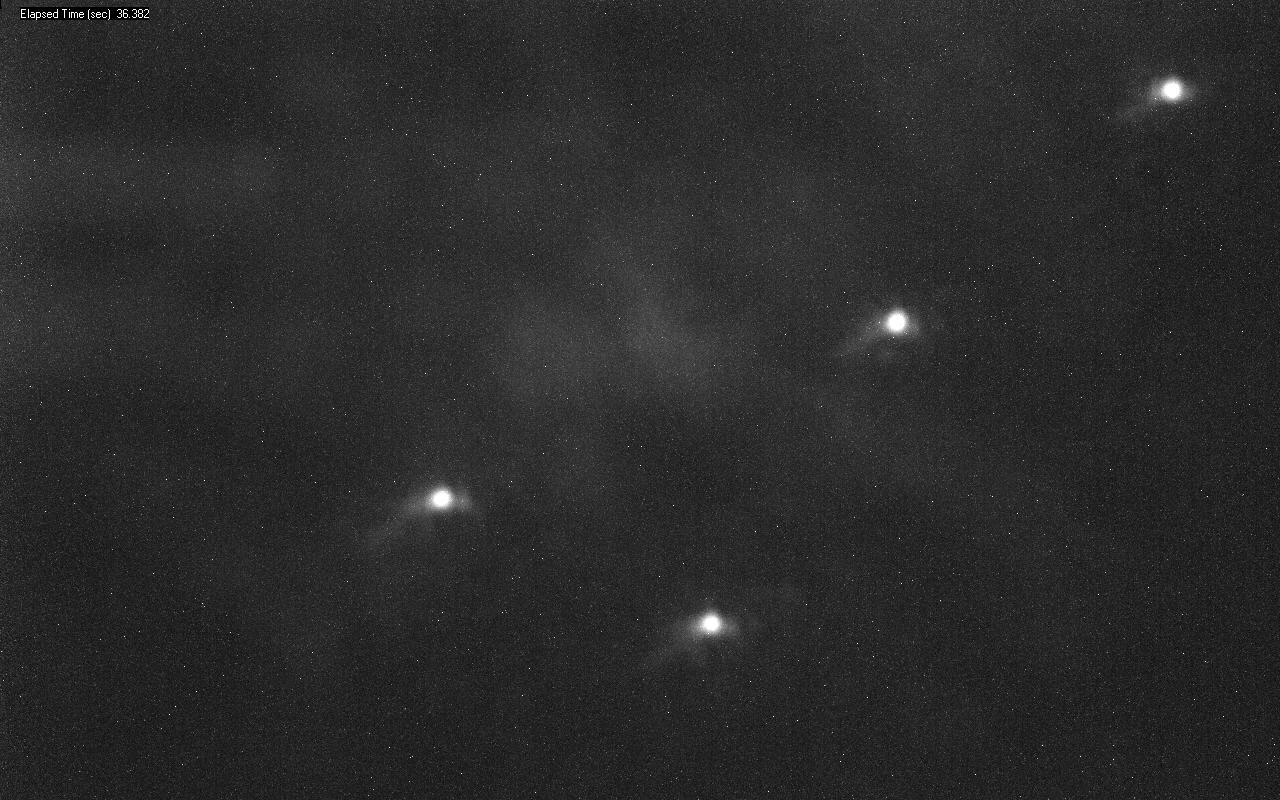Bead: (872, 308, 918, 338), (1151, 76, 1193, 104), (426, 488, 462, 509), (703, 614, 719, 632)
